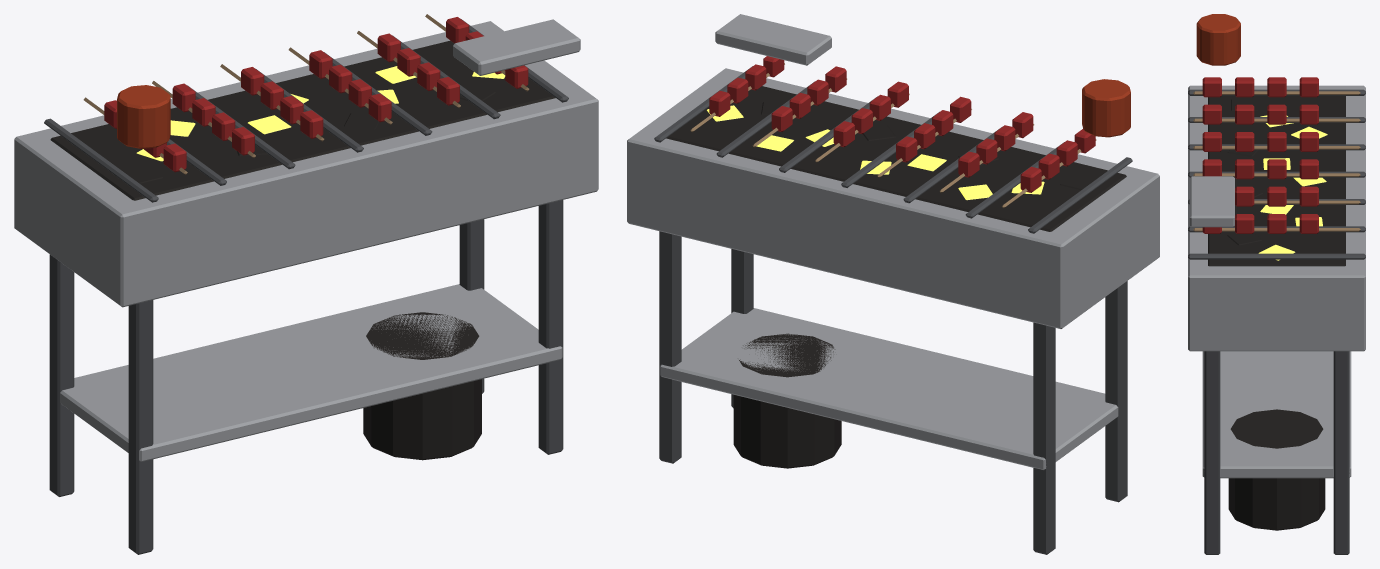
The model's file is PRP_Grill_ML_v001.glb.
The picture shows the model from 3 angles, left to right: view 1: azimuth 30°, elevation 25°; view 2: azimuth 150°, elevation 25°; view 3: azimuth 270°, elevation 25°; orthographic projection. The views are drawn at different scales.
Visible parts, largest first — view 1: PRP_Grill_ML_v001; view 2: PRP_Grill_ML_v001; view 3: PRP_Grill_ML_v001.
Part boxes in pixels (<box>): PRP_Grill_ML_v001: <box>14,14,598,554</box>; PRP_Grill_ML_v001: <box>627,14,1159,554</box>; PRP_Grill_ML_v001: <box>1188,14,1365,554</box>.
Size of the model in its own units: 1.4 by 1.26 by 0.55.
